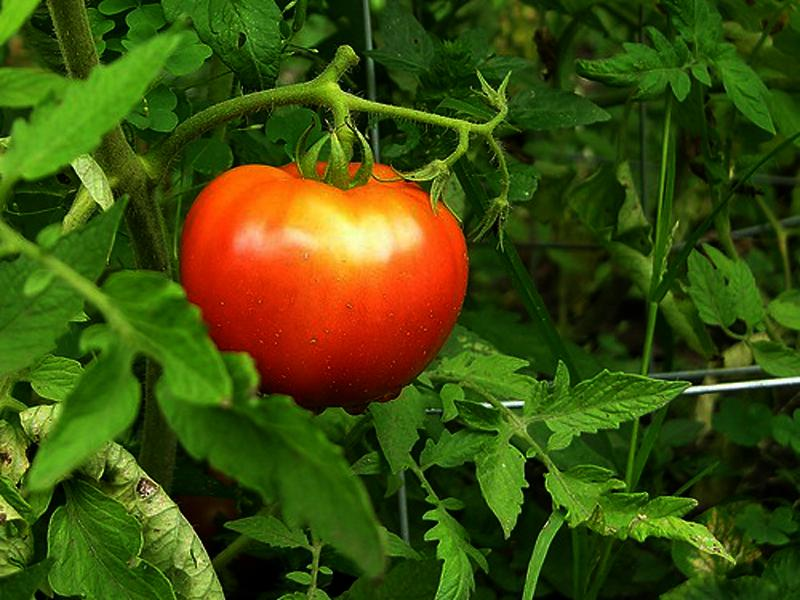Tomato: (181, 159, 466, 403)
